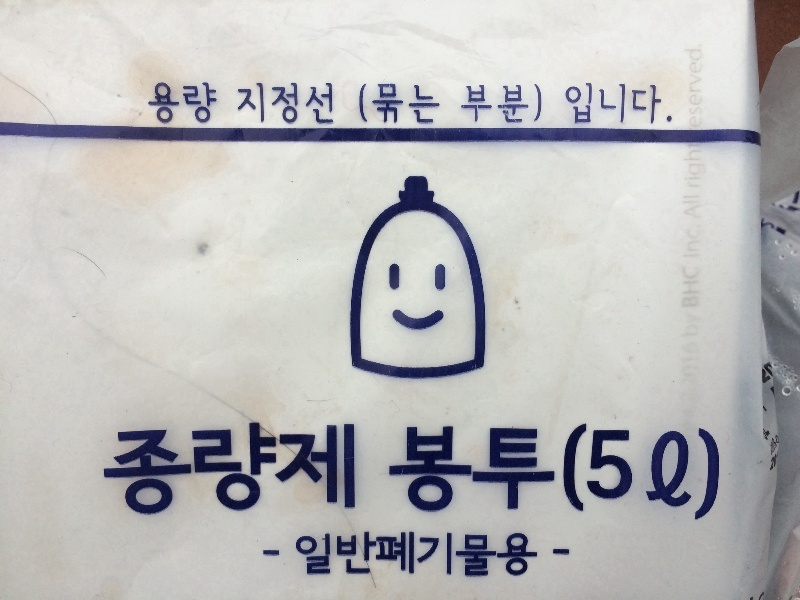text: (689, 44, 704, 416), (401, 423, 416, 524), (417, 423, 432, 524), (433, 423, 448, 524), (449, 423, 464, 524), (465, 423, 480, 524), (481, 423, 496, 524), (497, 423, 512, 524), (513, 423, 528, 524), (529, 423, 544, 524), (545, 423, 560, 524), (561, 423, 576, 524), (577, 423, 592, 524), (593, 423, 608, 524), (609, 423, 624, 524), (625, 423, 640, 524), (641, 423, 656, 524), (657, 423, 672, 524), (673, 423, 688, 524), (689, 423, 704, 524), (705, 423, 720, 524), (684, 44, 688, 416), (113, 420, 128, 519), (129, 420, 144, 519), (145, 420, 160, 519), (161, 420, 176, 519), (177, 420, 192, 519), (193, 420, 208, 519), (209, 420, 224, 519), (225, 420, 240, 519), (241, 420, 256, 519), (257, 420, 272, 519), (273, 420, 288, 519), (289, 420, 304, 519), (305, 420, 320, 519), (321, 420, 336, 519), (337, 420, 352, 519), (389, 423, 400, 524), (657, 81, 673, 126), (305, 532, 320, 579), (321, 532, 336, 579), (337, 532, 352, 579), (353, 532, 368, 579), (369, 532, 384, 579), (385, 532, 400, 579), (401, 532, 416, 579), (417, 532, 432, 579), (433, 532, 448, 579), (449, 532, 464, 579), (465, 532, 480, 579), (481, 532, 496, 579), (497, 532, 512, 579), (513, 532, 528, 579), (105, 420, 112, 519), (369, 81, 384, 126), (385, 81, 400, 126), (401, 81, 416, 126), (417, 81, 432, 126), (577, 81, 592, 126), (593, 81, 608, 126), (609, 81, 624, 126), (625, 81, 640, 126), (641, 81, 656, 126), (241, 81, 256, 125), (257, 81, 272, 125), (273, 81, 288, 125), (289, 81, 304, 125), (305, 81, 320, 125), (161, 82, 176, 124), (177, 82, 192, 124), (193, 82, 208, 124), (321, 81, 335, 125), (465, 83, 480, 124), (481, 83, 496, 124), (497, 83, 512, 124), (513, 83, 528, 124), (529, 83, 543, 124), (353, 420, 358, 519), (565, 81, 576, 126), (149, 82, 160, 124), (529, 532, 538, 579), (359, 81, 368, 126), (209, 82, 218, 124), (296, 532, 304, 579), (705, 44, 706, 416), (769, 435, 779, 471), (433, 81, 440, 126), (759, 361, 768, 386), (721, 423, 723, 524), (460, 83, 464, 124), (769, 361, 775, 386), (237, 81, 240, 125)
